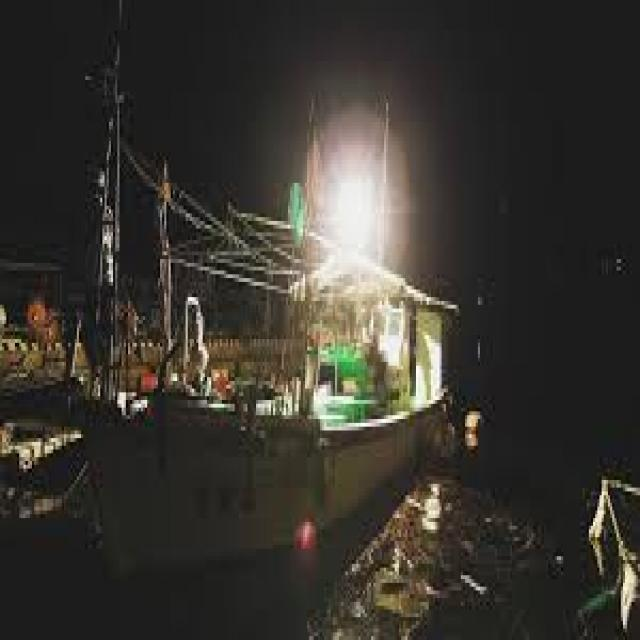Ship: (61, 1, 479, 607)
